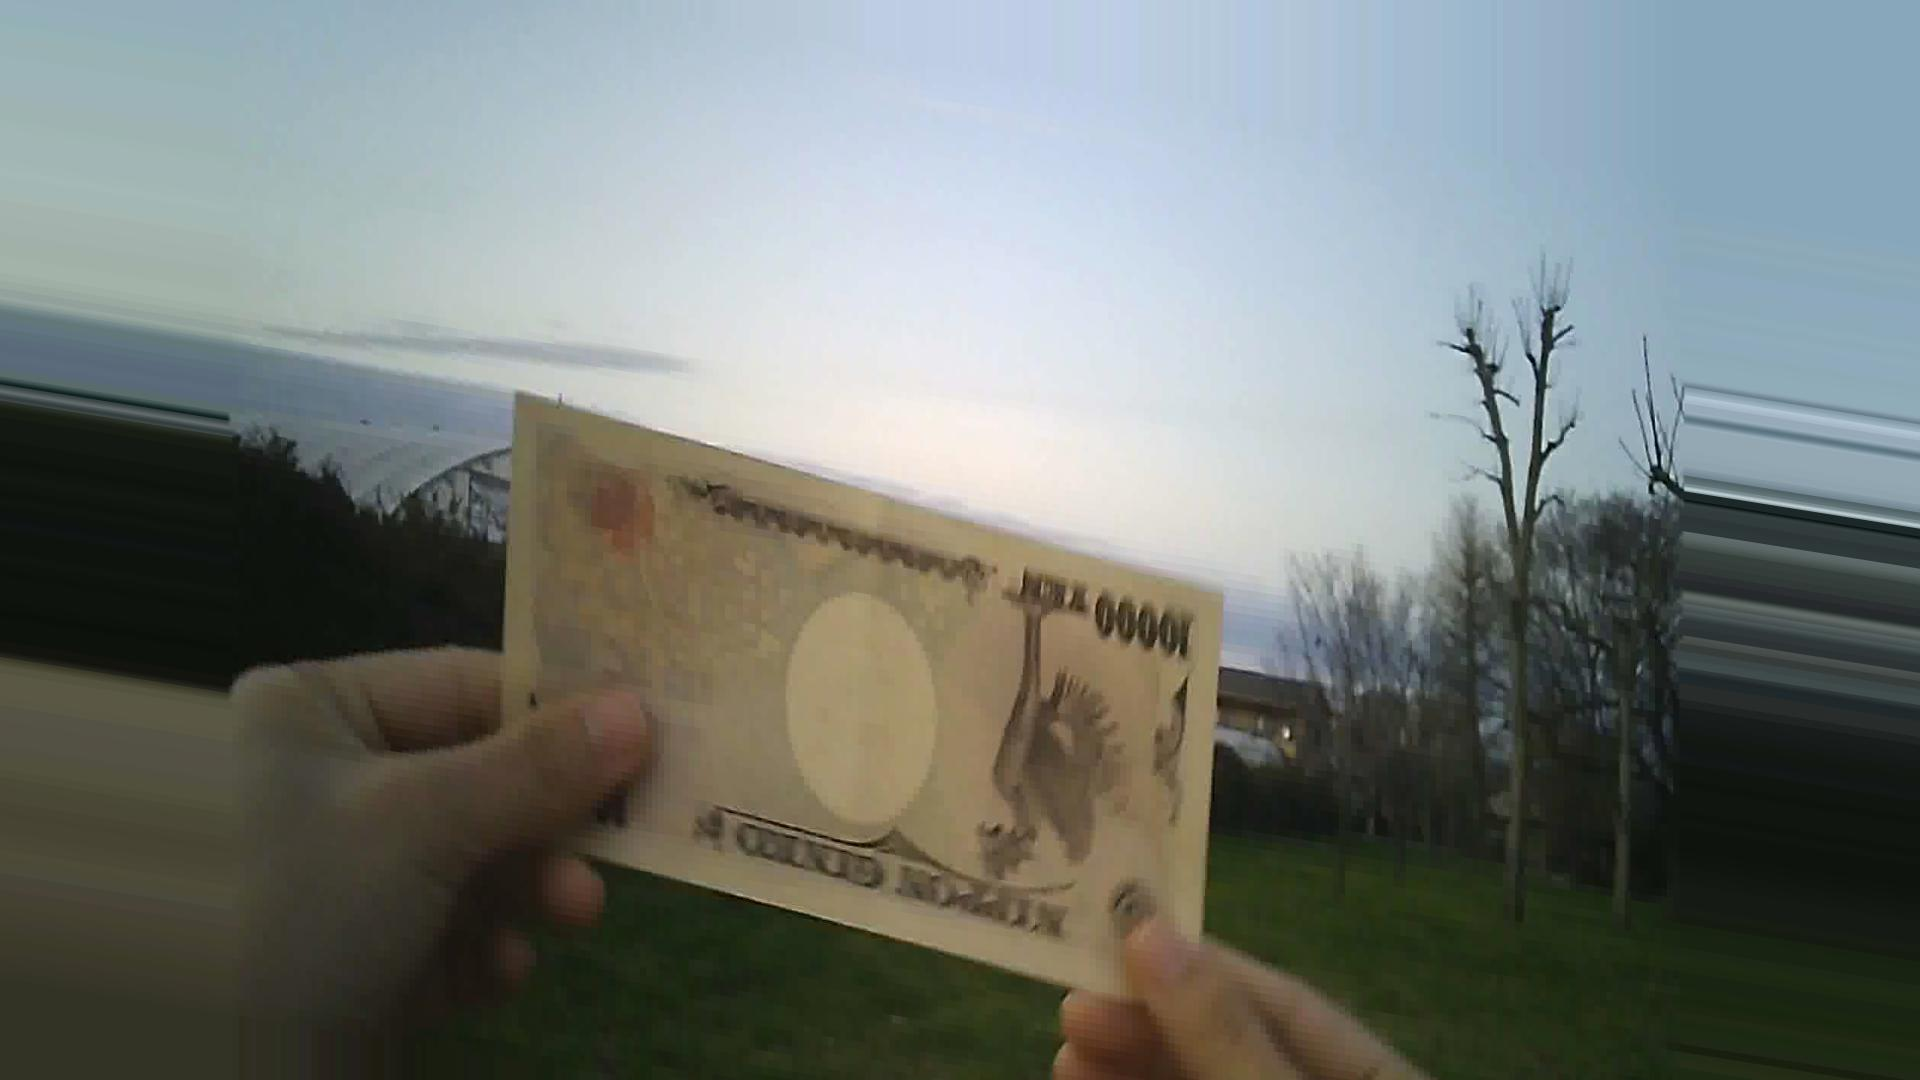10,000 Yen: (468, 389, 1280, 1018)
